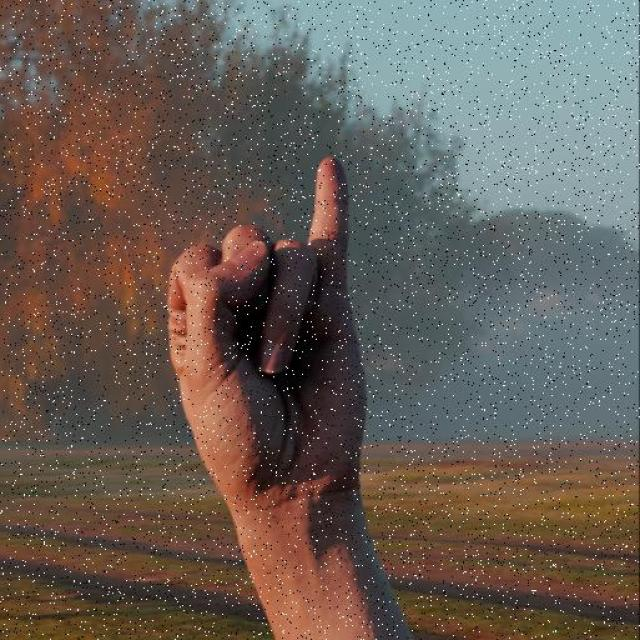I: (147, 130, 412, 590)
